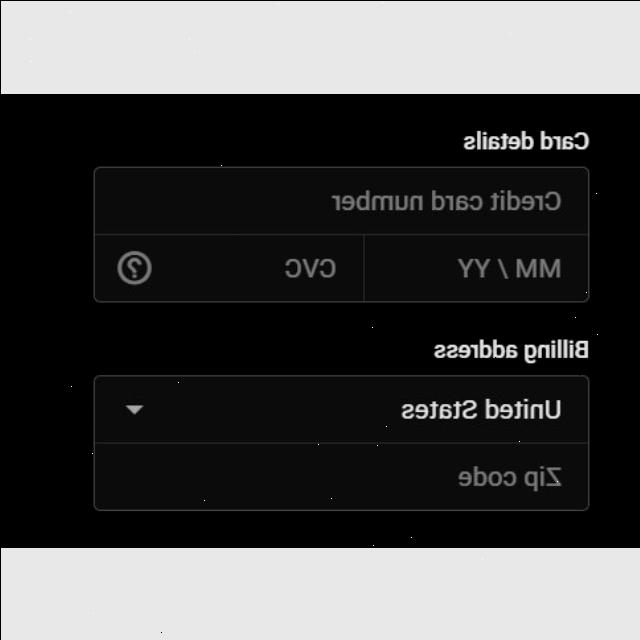QLabel: (432, 336, 590, 364), (461, 129, 589, 153)
VCombobox: (95, 375, 588, 443)
VTextField: (91, 164, 589, 234), (92, 442, 588, 512), (91, 235, 363, 303), (365, 236, 589, 300)
